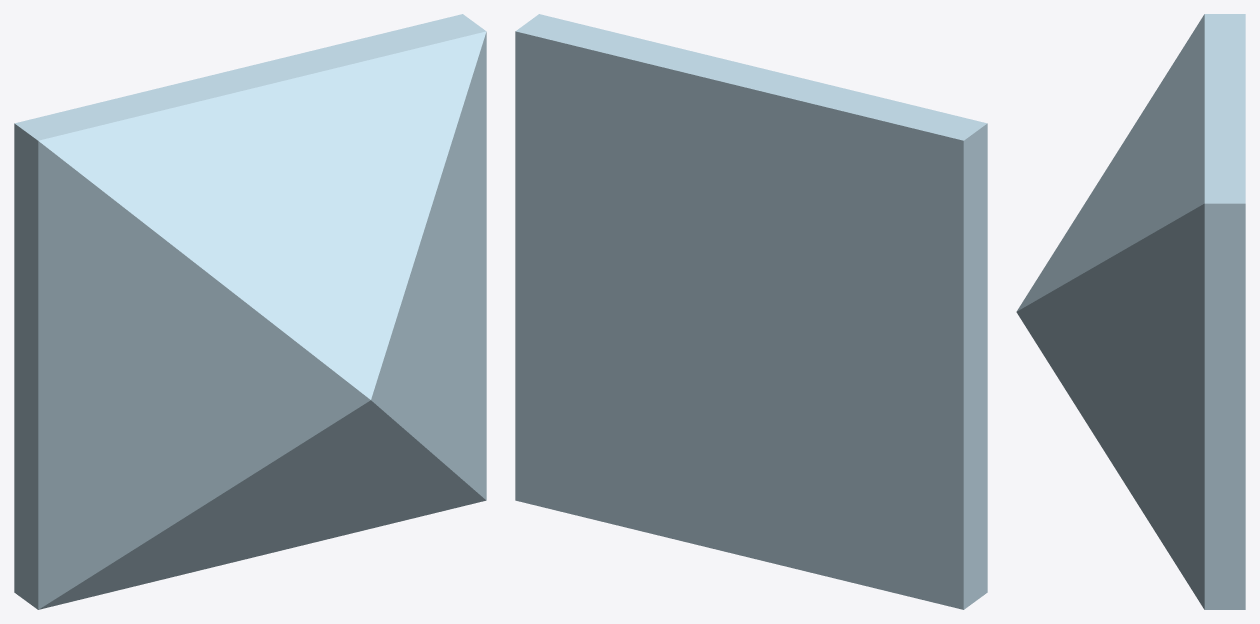
3 views of the same model, side by side, from view 1: azimuth 30°, elevation 25°; view 2: azimuth 150°, elevation 25°; view 3: azimuth 270°, elevation 25° (orthographic). The views are drawn at different scales.
Bounding box in the file's own units: 3.05 × 3.05 × 1.56.
